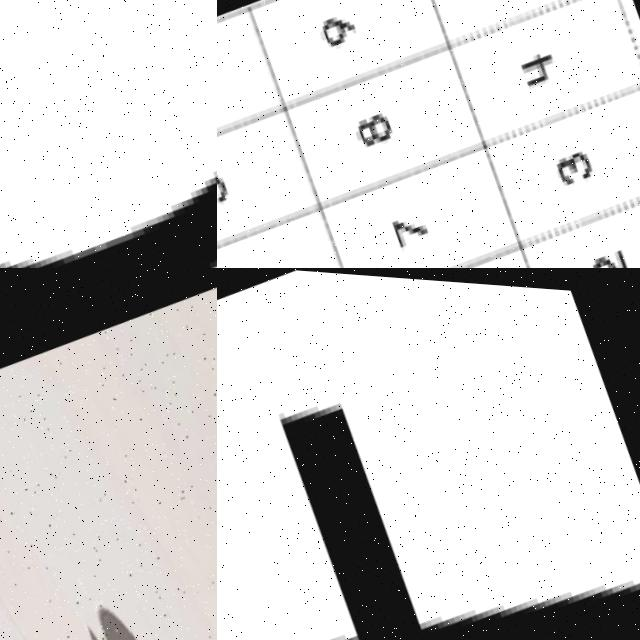2: (589, 231, 640, 268)
3: (550, 136, 606, 188), (217, 160, 242, 216)
4: (148, 398, 217, 640), (512, 37, 566, 88)
6: (44, 558, 217, 640)
7: (385, 202, 443, 250)
8: (352, 101, 409, 153)
9: (311, 0, 370, 54)
F: (217, 268, 640, 640)
